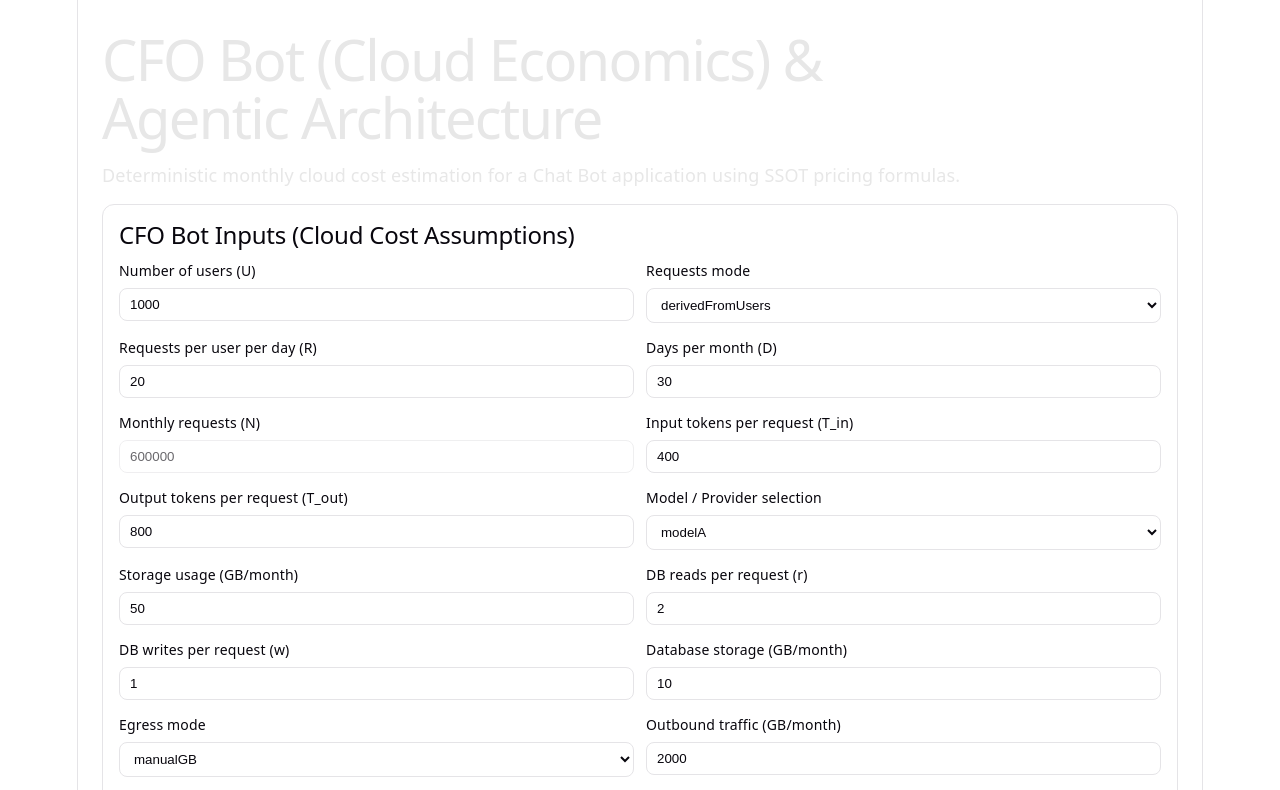
UI calculation consistency (SSOT) › updates total when egress mode switches to derivedFromTokens
Select "derivedFromTokens" in the dropdown labelled "Egress mode": [376, 760] box [119,742,634,777]
(page scrolled)
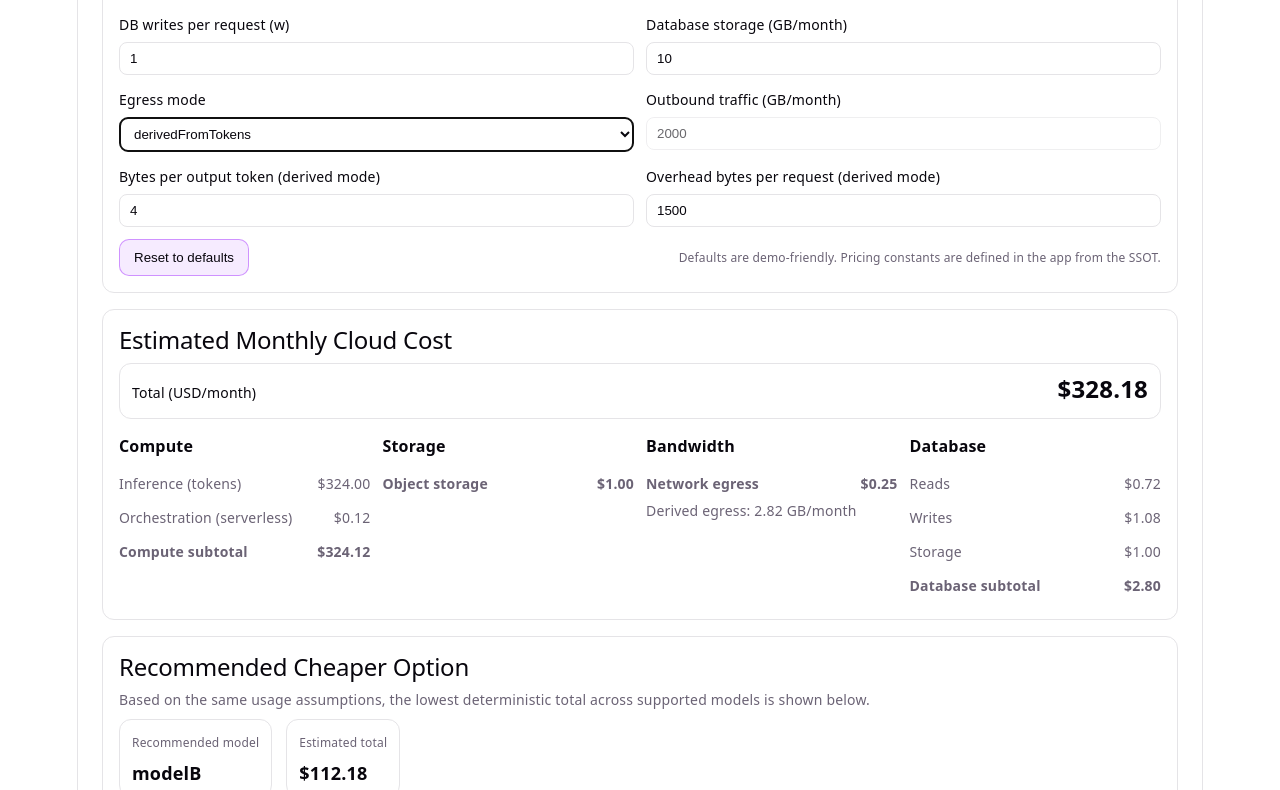
Expected: the element with test id "total-monthly-cost" shows "$328.18", [1058,372,1148,405]
